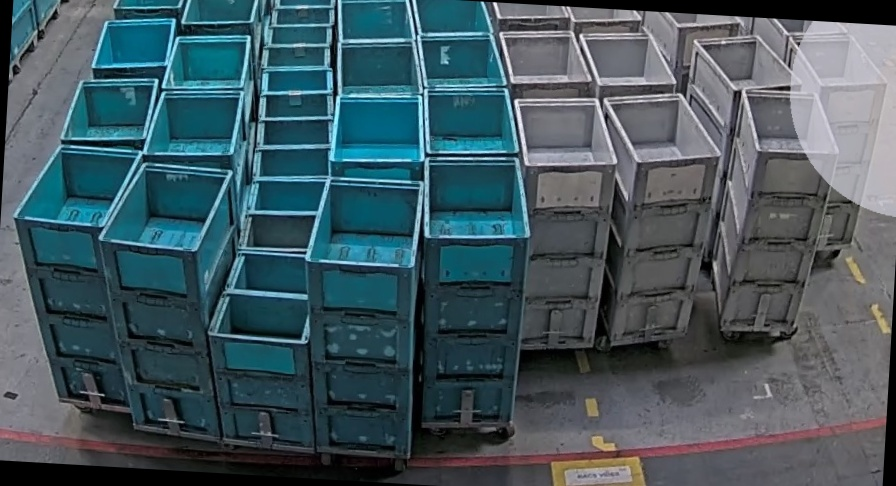4G: (588, 88, 726, 350), (706, 86, 843, 333), (500, 93, 621, 350), (774, 30, 891, 249)
B4: (86, 156, 244, 439), (0, 141, 146, 411), (292, 173, 427, 459), (407, 150, 537, 428)
B8: (200, 247, 331, 451)
